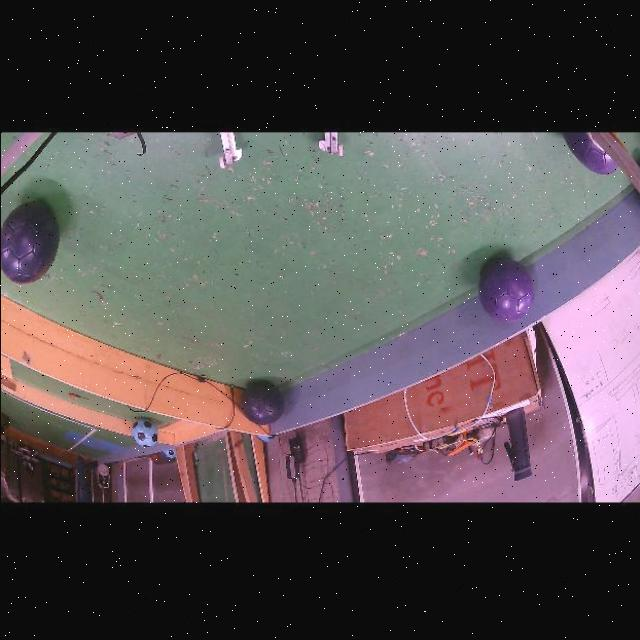B: (0, 202, 59, 284), (240, 381, 283, 425)
P: (478, 259, 534, 322), (561, 132, 617, 174)
